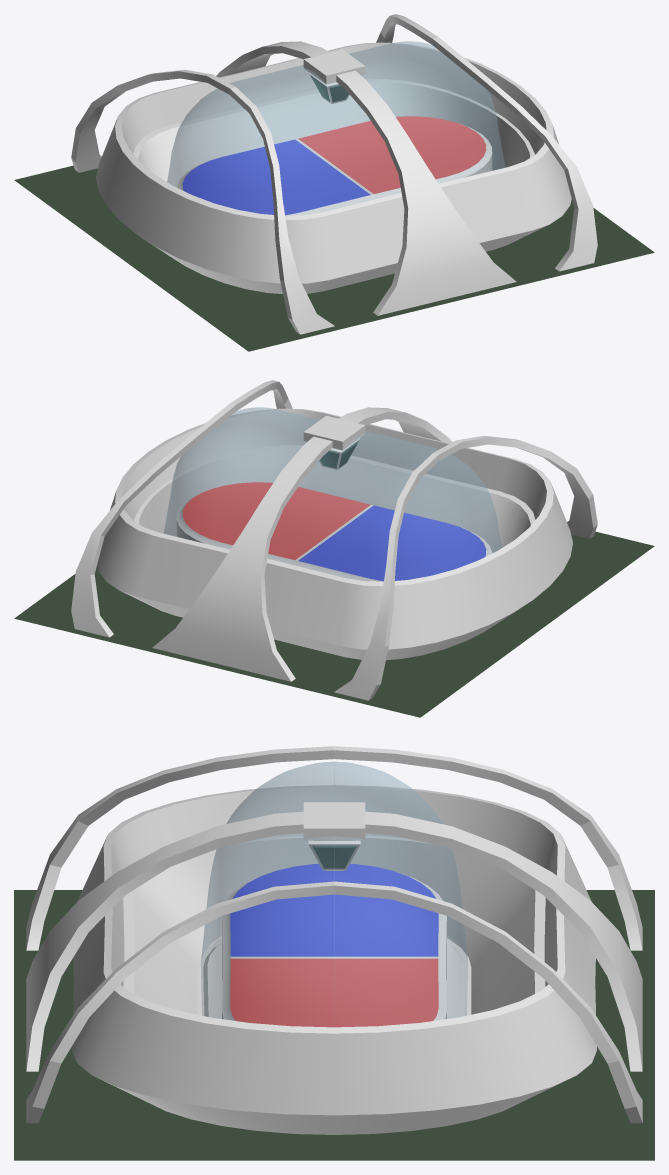
The model's file is PongChampionships_Env.glb.
3 views of the same model, one above another, from view 1: azimuth 30°, elevation 25°; view 2: azimuth 150°, elevation 25°; view 3: azimuth 270°, elevation 25° (orthographic). The views are drawn at different scales.
Visible parts, largest first — view 1: Circle.001, Circle.002, Plane, Circle, Circle.003, Circle.004, Cube; view 2: Circle.001, Circle.002, Plane, Circle, Circle.003, Circle.004, Cube; view 3: Circle.001, Circle.002, Plane, Circle, Circle.004, Circle.003, Cube.
Boxes of the visible parts, x1,y1,x2,y2 form: Circle.001: [96, 42, 571, 294]; Circle.002: [167, 41, 504, 215]; Plane: [14, 165, 654, 351]; Circle: [176, 116, 492, 215]; Circle.003: [216, 41, 516, 315]; Circle.004: [71, 14, 597, 334]; Cube: [303, 49, 365, 103]; Circle.001: [97, 408, 572, 660]; Circle.002: [164, 407, 501, 581]; Plane: [14, 531, 654, 717]; Circle: [176, 482, 492, 581]; Circle.003: [152, 407, 452, 681]; Circle.004: [71, 380, 597, 700]; Cube: [303, 415, 365, 469]; Circle.001: [72, 785, 596, 1134]; Circle.002: [201, 761, 467, 1026]; Plane: [14, 890, 654, 1160]; Circle: [222, 863, 446, 1027]; Circle.004: [26, 746, 642, 1123]; Circle.003: [26, 811, 642, 1071]; Cube: [303, 802, 365, 870].
Size of the model in its own units: 112 by 40.47 by 112.
